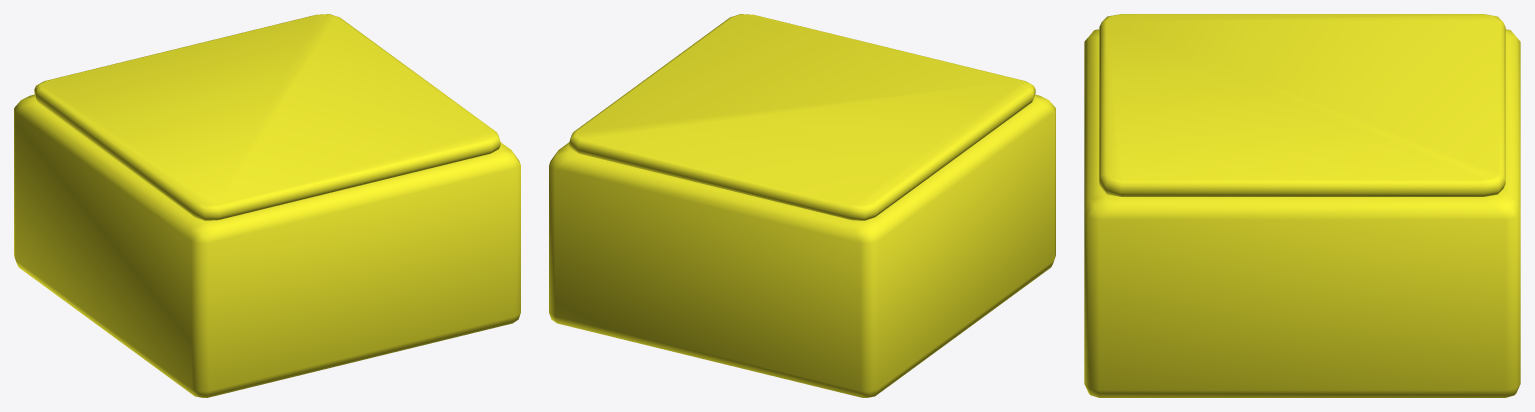
Rendered from Block-O-Yellow.fbx.
3 views of the same model, side by side, from view 1: azimuth 30°, elevation 25°; view 2: azimuth 150°, elevation 25°; view 3: azimuth 270°, elevation 25° (orthographic). The views are drawn at different scales.
Parts seen in each view (by area): view 1: Block-O-Yellow, Cube.041; view 2: Block-O-Yellow, Cube.041; view 3: Block-O-Yellow, Cube.041.
Boxes of the visible parts, x1,y1,x2,y2 form: Block-O-Yellow: (14,94,520,397); Cube.041: (34,14,500,220); Block-O-Yellow: (549,94,1055,397); Cube.041: (569,14,1035,220); Block-O-Yellow: (1084,29,1520,397); Cube.041: (1099,14,1505,196).
Bounding box in the file's own units: 100 × 54.24 × 100.
